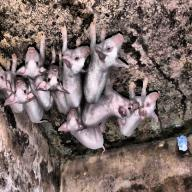boar: (0, 22, 159, 155)
